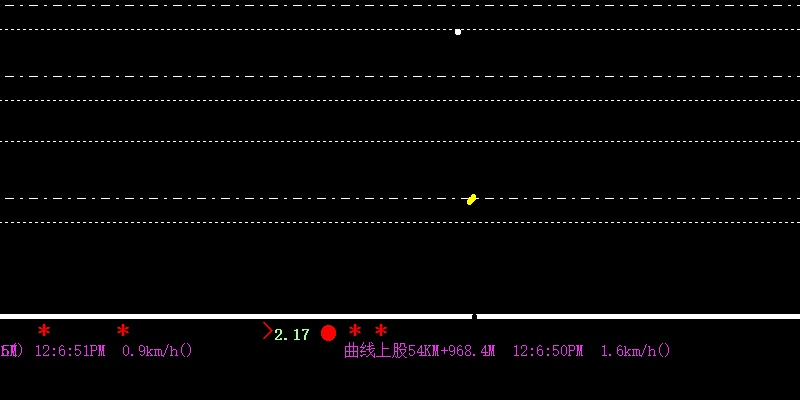circle: (319, 321, 336, 342)
face_1: (453, 25, 462, 40)
star: (115, 321, 132, 339), (373, 320, 388, 339), (348, 320, 363, 338), (35, 322, 51, 337)
